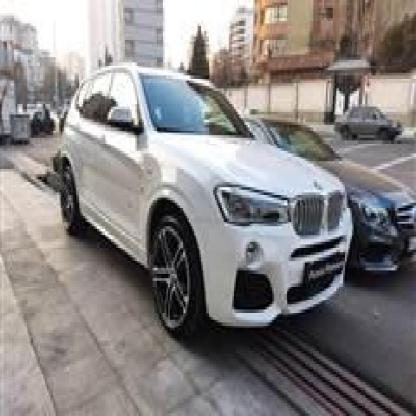Car: (48, 81, 333, 338), (257, 94, 408, 273), (340, 94, 402, 148)
